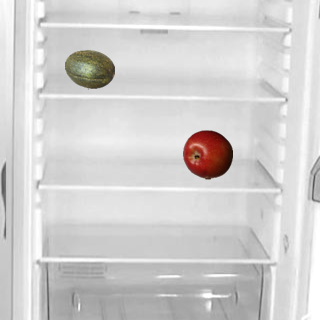Apple Braeburn: (182, 129, 232, 179)
Melon Piel de Sapo: (64, 44, 114, 94)
